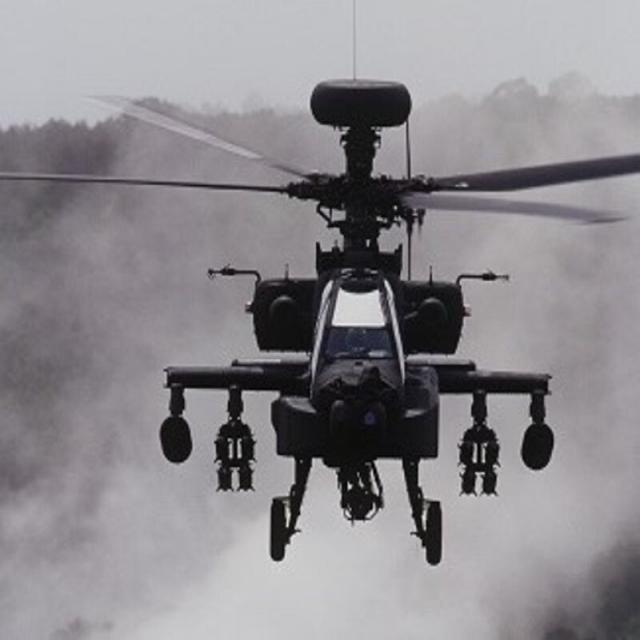Apache: (19, 72, 640, 567)
